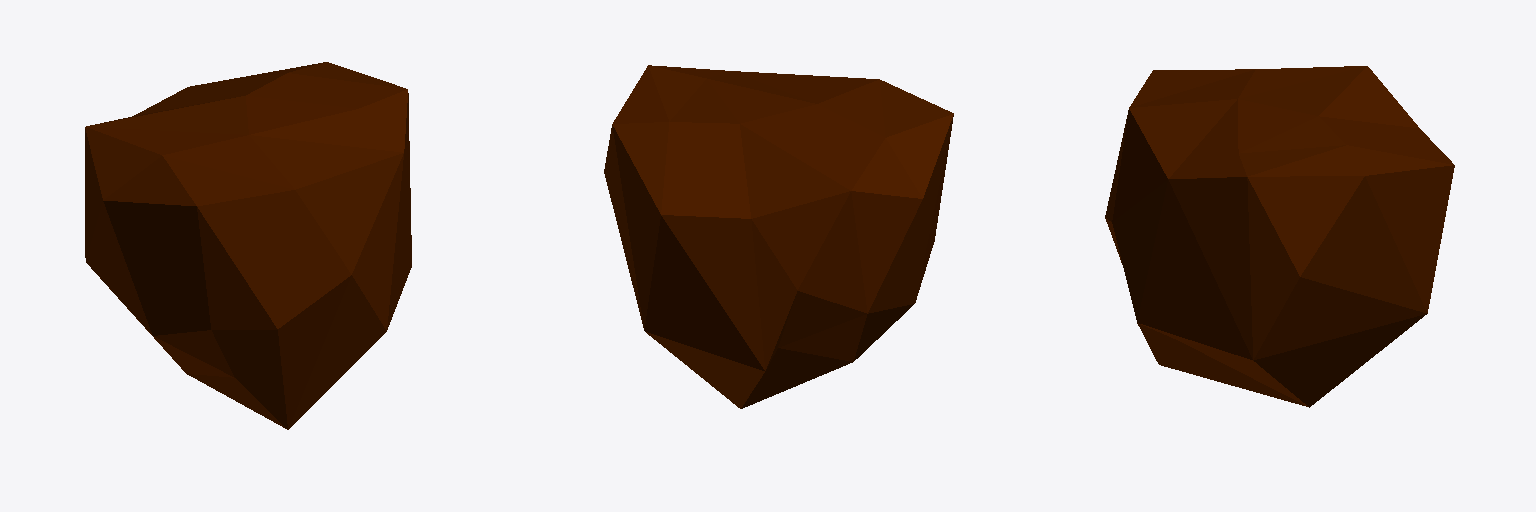
The model's file is island_small_floating_stone.obj.
The picture shows the model from 3 angles: view 1: azimuth 30°, elevation 25°; view 2: azimuth 150°, elevation 25°; view 3: azimuth 270°, elevation 25°; orthographic projection.
Visible parts, largest first — view 1: pasted__Icosphere pasted__island group1; view 2: pasted__Icosphere pasted__island group1; view 3: pasted__Icosphere pasted__island group1.
Part boxes in pixels (x1,y1,x2,y2): pasted__Icosphere pasted__island group1: (85, 62, 411, 429); pasted__Icosphere pasted__island group1: (604, 65, 953, 408); pasted__Icosphere pasted__island group1: (1105, 66, 1454, 407).
Size of the model in its own units: 1.77 by 1.6 by 1.74.